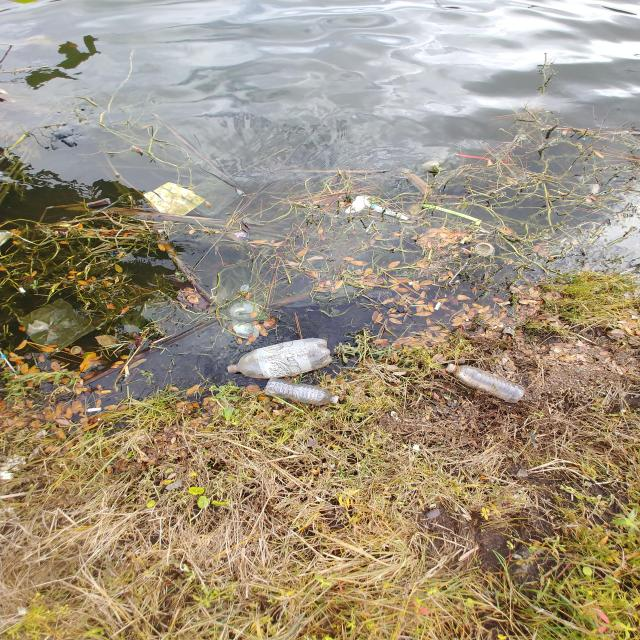litter: (449, 229, 508, 312), (400, 410, 479, 468), (484, 83, 539, 147), (240, 323, 297, 375), (256, 170, 299, 224), (504, 223, 543, 282), (385, 282, 452, 309)
